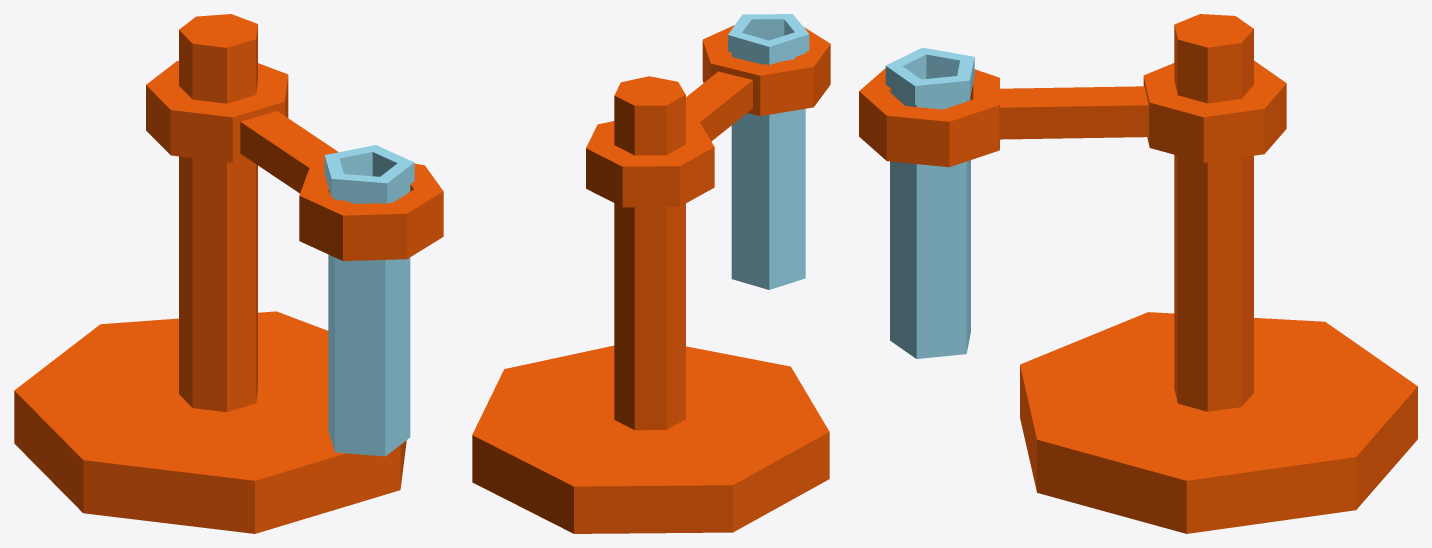
Rendered from Stander_Flask_1.fbx.
3 views of the same model, side by side, from view 1: azimuth 30°, elevation 25°; view 2: azimuth 150°, elevation 25°; view 3: azimuth 270°, elevation 25° (orthographic). The views are drawn at different scales.
Parts seen in each view (by area): view 1: Stander_thin_flask; view 2: Stander_thin_flask; view 3: Stander_thin_flask.
Boxes of the visible parts, x1=… form: Stander_thin_flask: x1=14, y1=14, x2=443, y2=533; Stander_thin_flask: x1=472, y1=14, x2=830, y2=533; Stander_thin_flask: x1=859, y1=14, x2=1417, y2=533.
Bounding box in the file's own units: 38.82 × 44.75 × 54.31.
